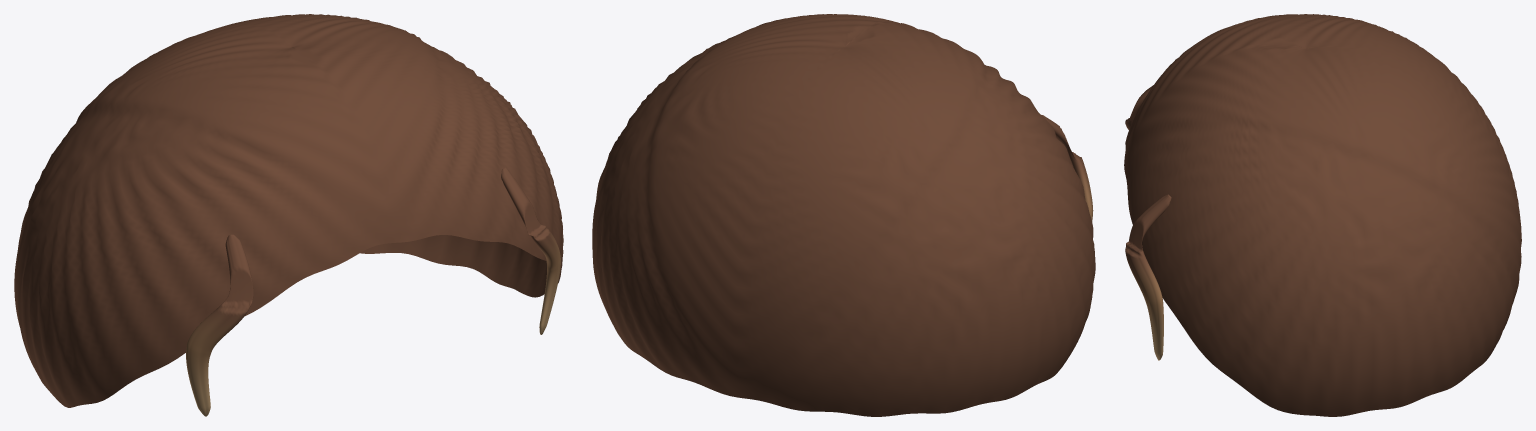
File: Ombre-121a504bc814253-hair.glb
3 renders of one model, left to right at view 1: azimuth 30°, elevation 25°; view 2: azimuth 150°, elevation 25°; view 3: azimuth 270°, elevation 25°, orthographic. The views are drawn at different scales.
Parts seen in each view (by area): view 1: 226 hair / Hair / chestnut226.002; view 2: 226 hair / Hair / chestnut226.002; view 3: 226 hair / Hair / chestnut226.002.
Part boxes in pixels (box(x1,y1,x2,y2)): 226 hair / Hair / chestnut226.002: box(14, 14, 563, 416); 226 hair / Hair / chestnut226.002: box(592, 14, 1095, 416); 226 hair / Hair / chestnut226.002: box(1124, 14, 1521, 416).
Size of the model in its own units: 0.9988 by 0.5983 by 0.7845.
Materials: 1 (1 with a texture image).
